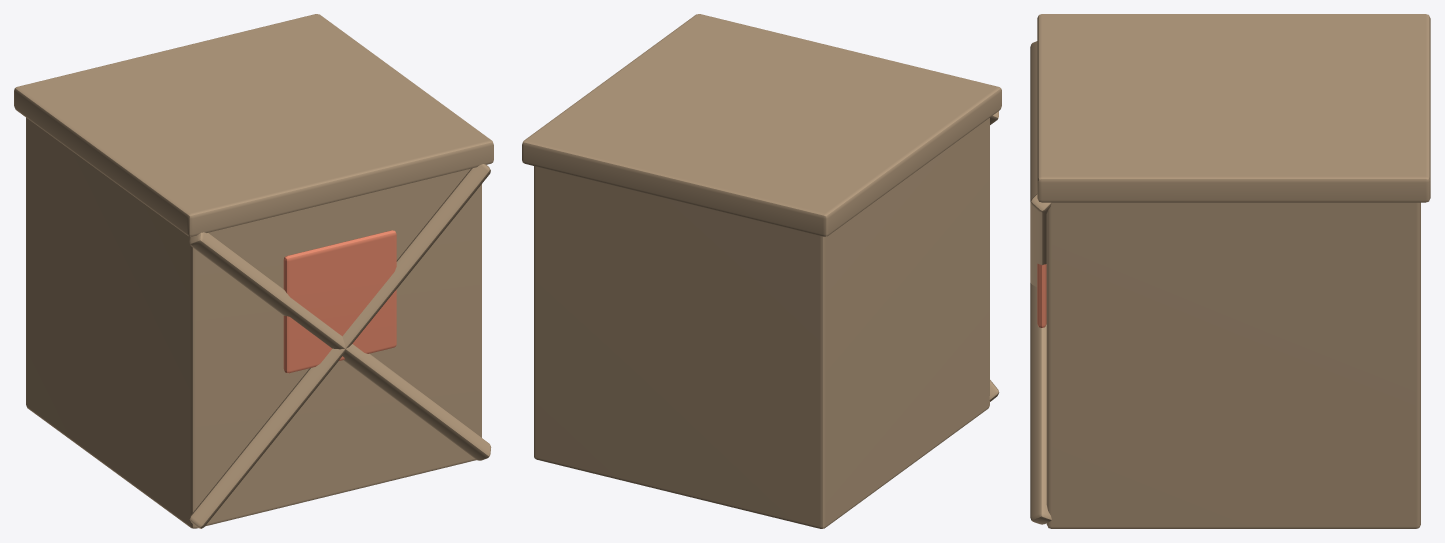
The model's file is wooden_crate.glb.
The picture shows the model from 3 angles, left to right: view 1: azimuth 30°, elevation 25°; view 2: azimuth 150°, elevation 25°; view 3: azimuth 270°, elevation 25°; orthographic projection. The views are drawn at different scales.
Parts seen in each view (by area): view 1: wooden_crate; view 2: wooden_crate; view 3: wooden_crate.
Boxes of the visible parts, x1=… form: wooden_crate: x1=14, y1=14, x2=493, y2=528; wooden_crate: x1=522, y1=14, x2=1001, y2=528; wooden_crate: x1=1030, y1=14, x2=1430, y2=528.
Size of the model in its own units: 0.82 by 0.82 by 0.8341.
